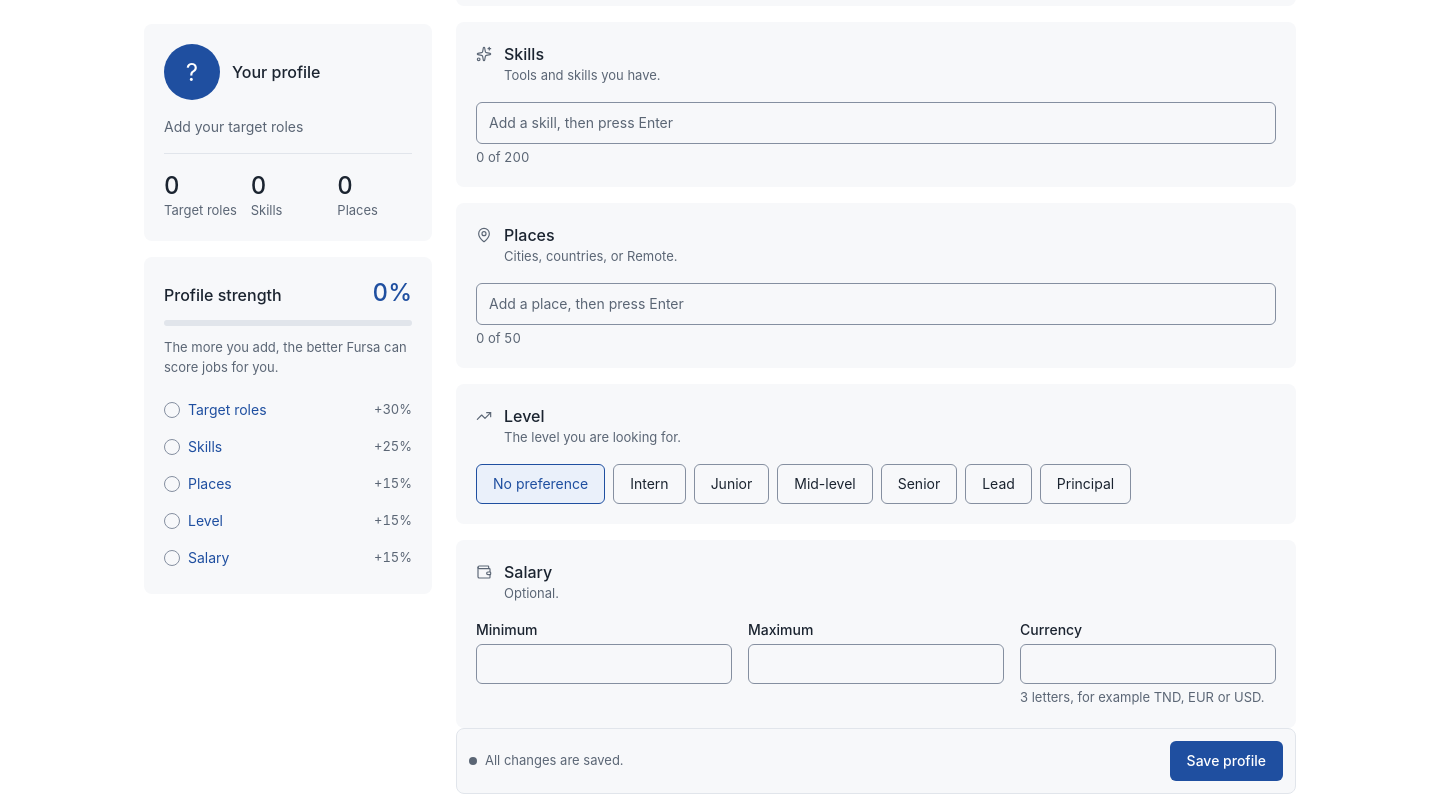
Scenario: profile page › puts a problem the API finds on its field
The image size is (1440, 810).
(page scrolled)
Type "100" into the field labelled "Minimum" at (604, 664), box [476, 644, 732, 684]
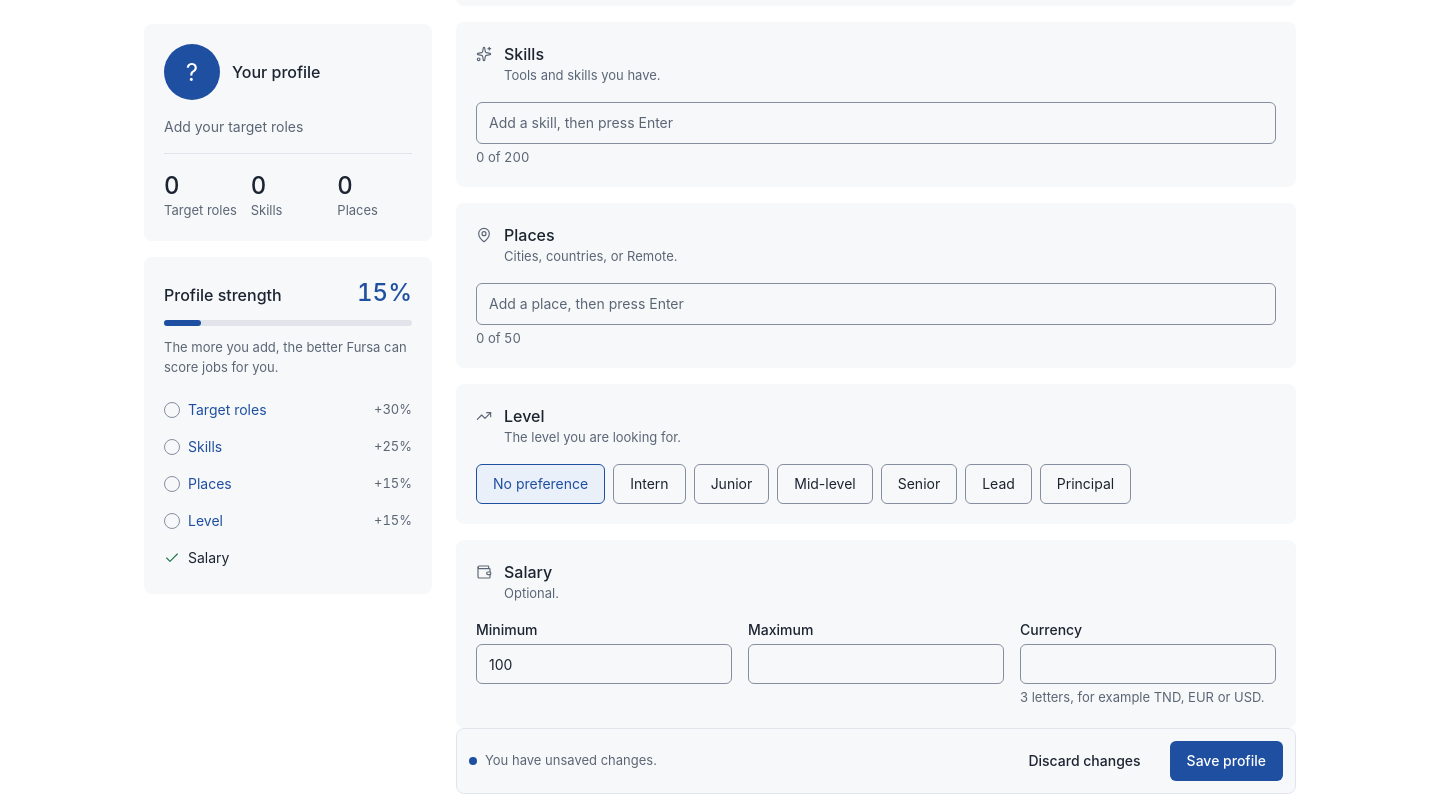
Type "TND" into the field labelled "Currency" at (1148, 664), box [1020, 644, 1276, 684]
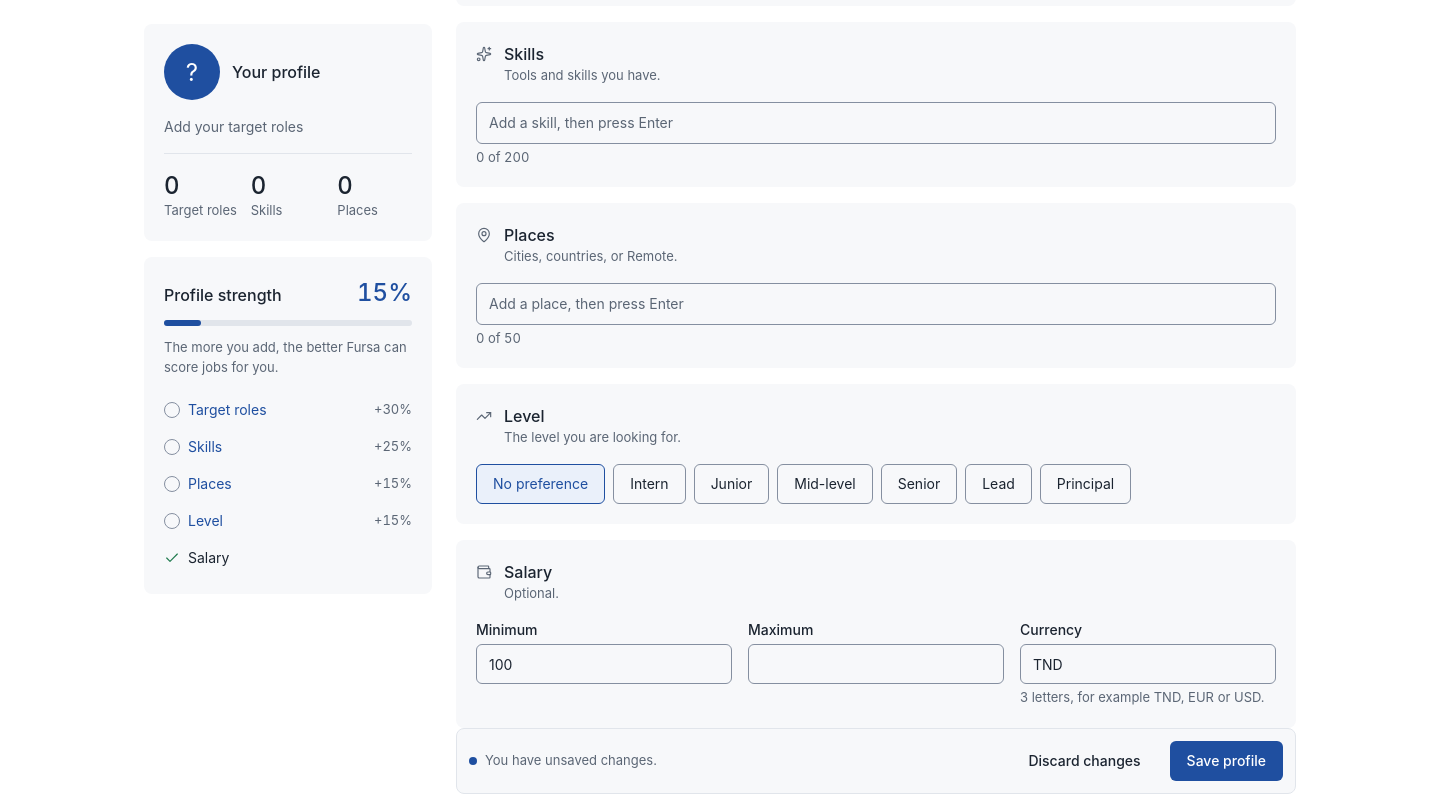
Click the button "Save profile" at (1226, 761), box [1170, 741, 1283, 781]
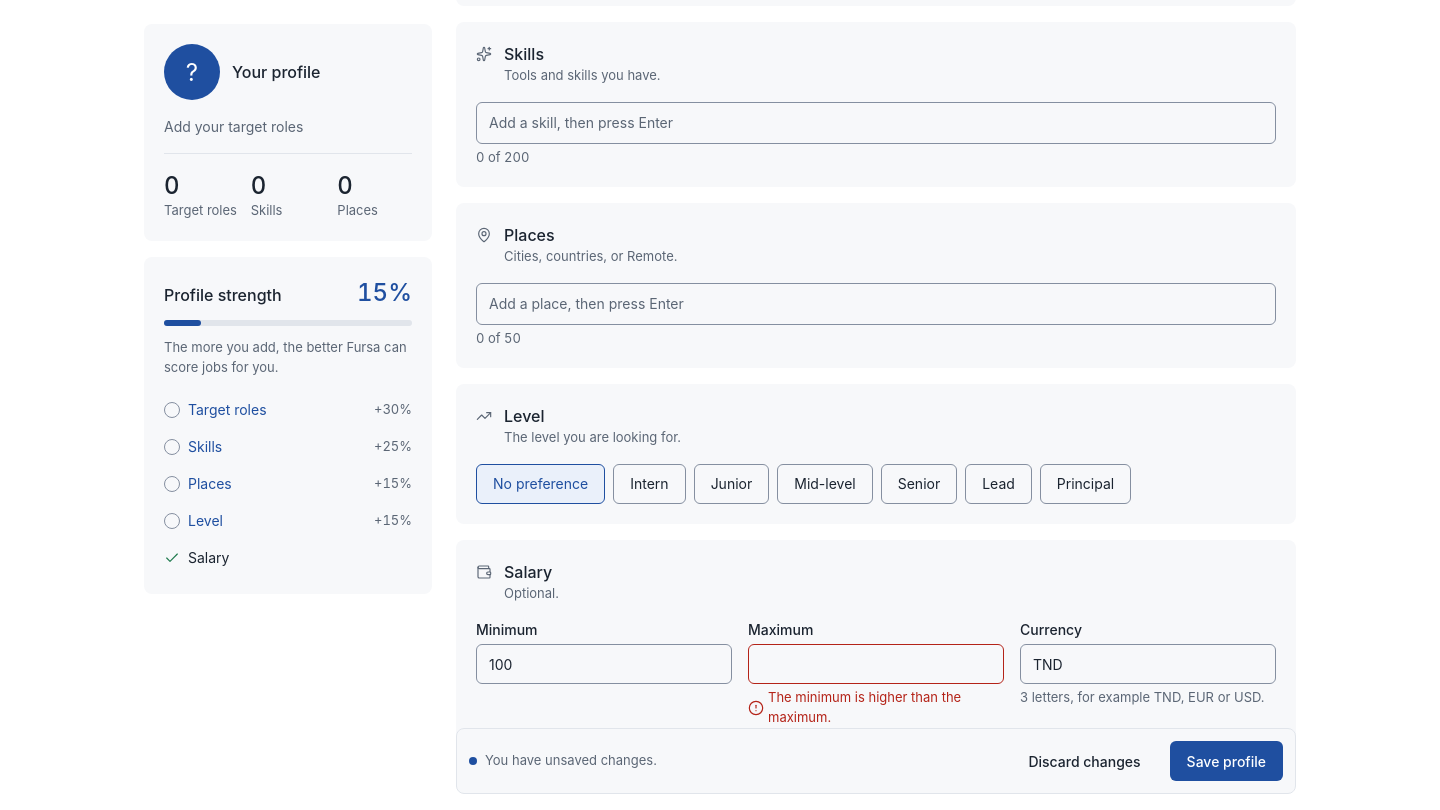
Check: the text "The minimum is higher than the maximum." is shown, box [748, 689, 961, 725]
